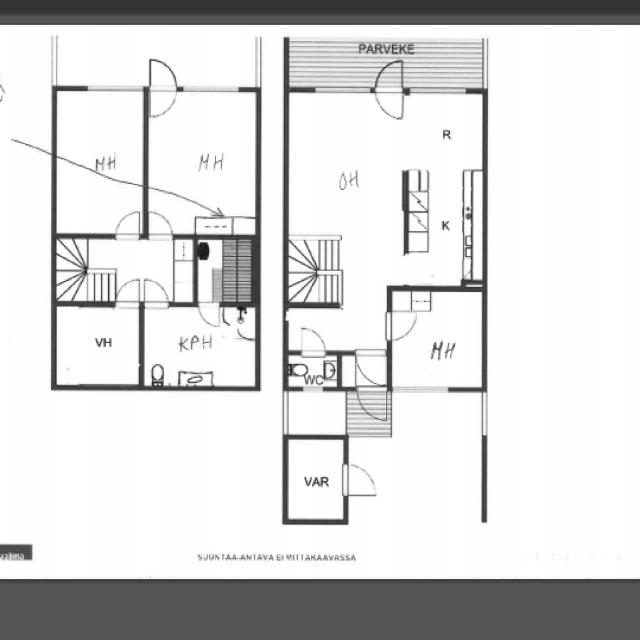door: (288, 438, 348, 522), (143, 55, 180, 121), (372, 56, 407, 123), (338, 459, 382, 501), (354, 348, 390, 387), (382, 306, 419, 342), (355, 385, 389, 423), (122, 277, 160, 309), (112, 206, 145, 242), (296, 324, 330, 358), (112, 275, 145, 307), (140, 275, 170, 309), (146, 208, 175, 241), (196, 298, 223, 329)
window: (80, 79, 148, 95), (309, 81, 374, 97), (181, 81, 244, 97), (407, 84, 473, 98), (390, 382, 454, 396), (477, 388, 492, 440)
zone: (284, 90, 407, 265), (145, 88, 260, 233), (405, 89, 485, 288), (55, 86, 147, 235), (140, 303, 258, 388), (390, 286, 486, 389), (53, 304, 143, 388), (287, 437, 347, 523), (195, 236, 259, 305), (285, 352, 340, 390)
